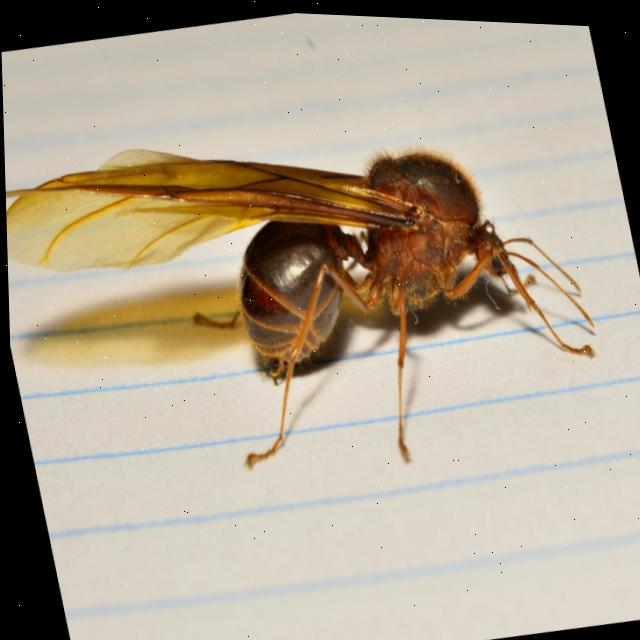Alive-Male-Alate: (2, 67, 616, 532)
